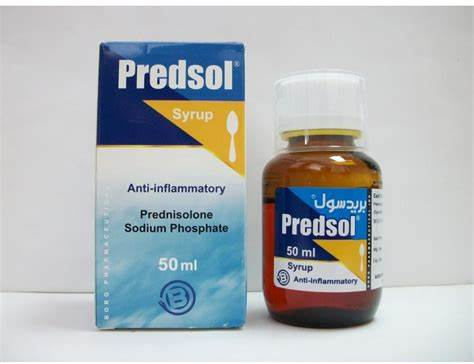Medicine: (92, 36, 253, 339), (254, 70, 391, 331)
